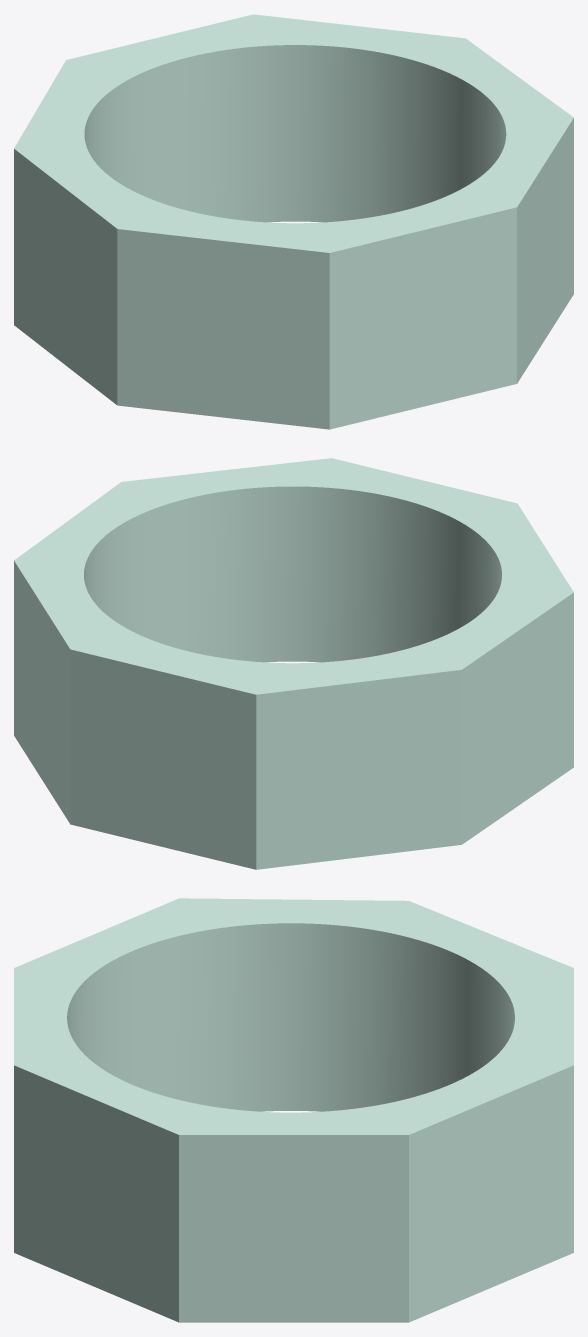
The picture shows the model from 3 angles, top to bottom: view 1: azimuth 30°, elevation 25°; view 2: azimuth 150°, elevation 25°; view 3: azimuth 270°, elevation 25°; orthographic projection. The views are drawn at different scales.
Visible parts, largest first — view 1: Renderer Node; view 2: Renderer Node; view 3: Renderer Node.
Boxes of the visible parts, x1=… form: Renderer Node: x1=14, y1=14, x2=573, y2=429; Renderer Node: x1=14, y1=458, x2=573, y2=869; Renderer Node: x1=14, y1=898, x2=573, y2=1322.
Bounding box in the file's own units: 0.7188 × 0.2656 × 0.7188.
